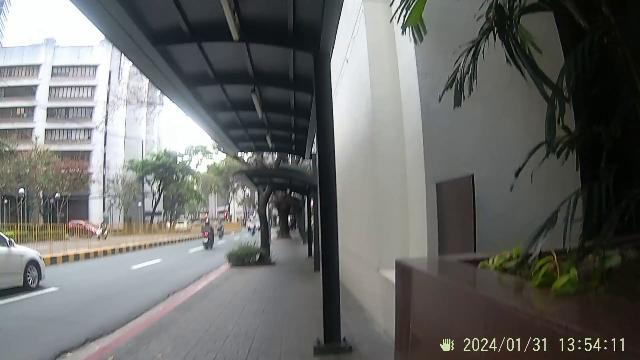tree: (255, 186, 271, 264)
